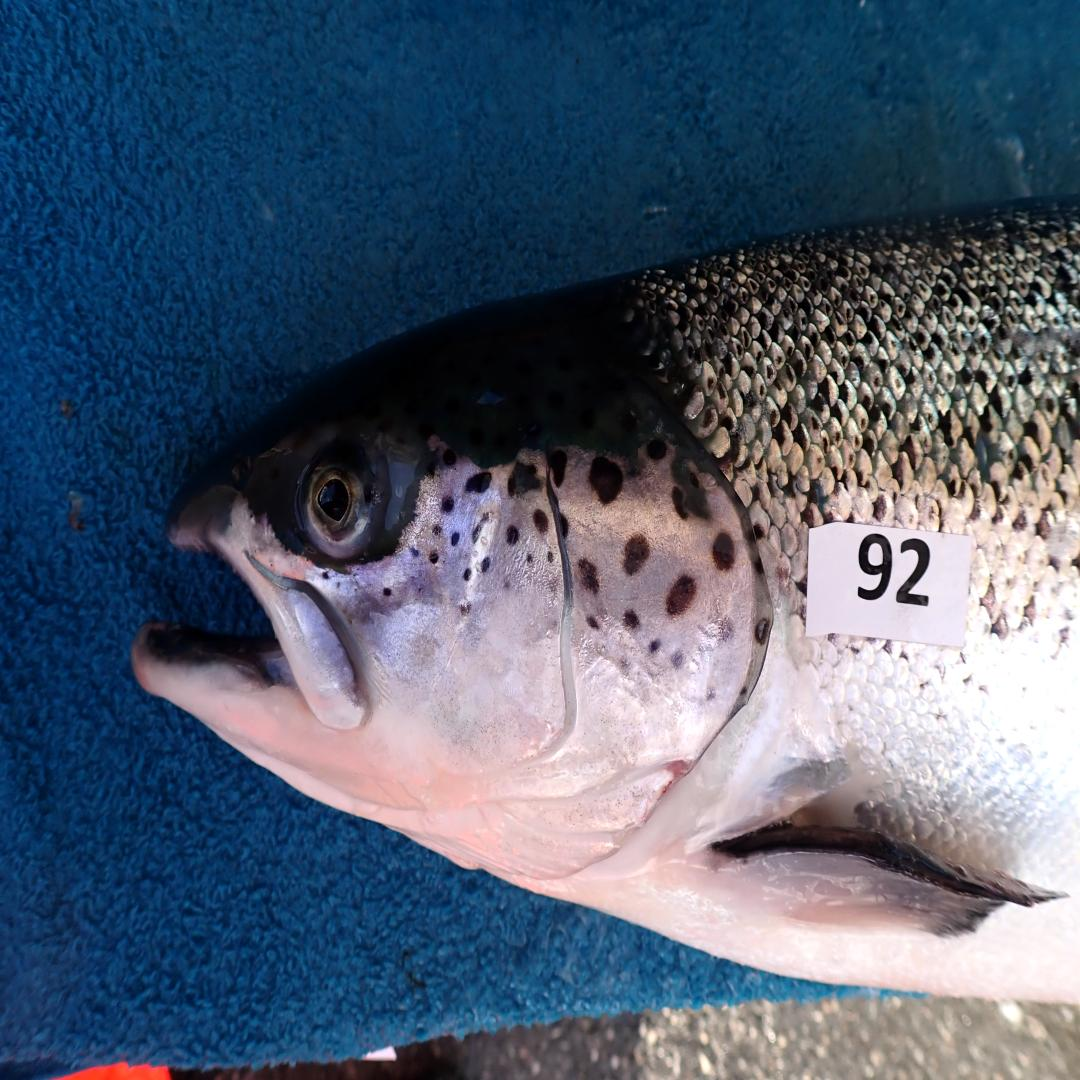roi: (367, 442, 763, 885)
